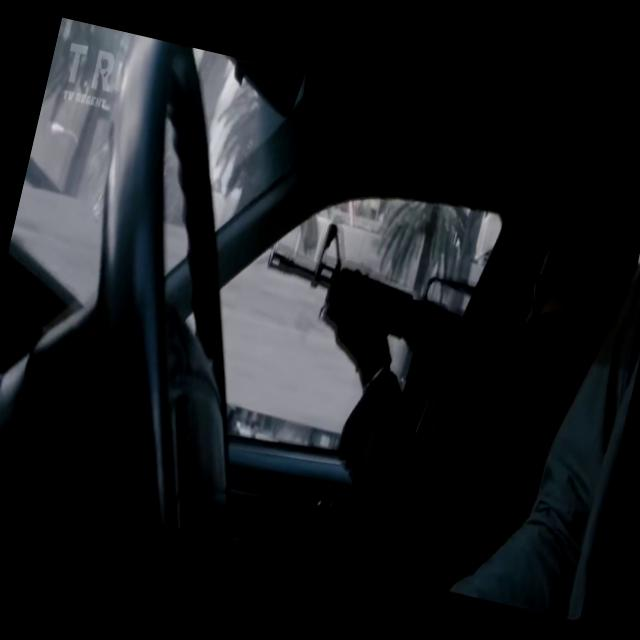long weapon: (238, 212, 522, 440)
